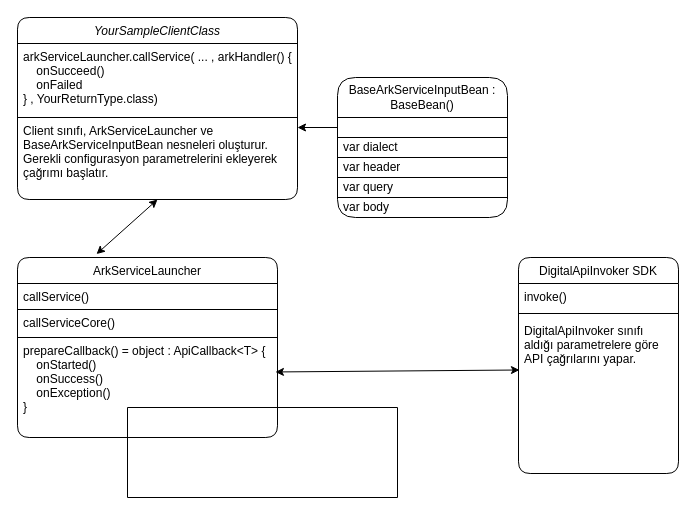
The diagram is 696 pixels wide and 515 high, and some of its shapes have lost their labels. Here are the shapes that lost their labels. From the top down, the centre of each, then its label:
At (x=422, y=127): "var route".
At (x=262, y=452): "ArkServiceLauncher sınıfı çağrıyı yönetir ve başarılı/başarısız sonuçları işler.".
